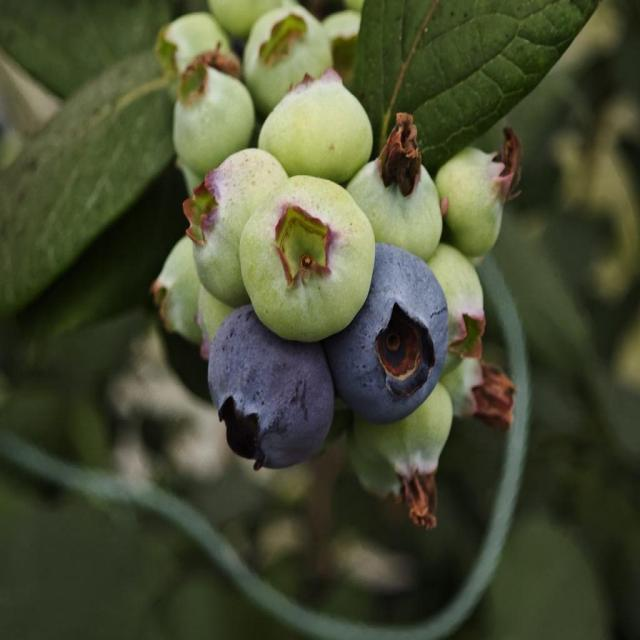RipeBlueBerry: (205, 308, 338, 473), (336, 242, 452, 428)
UnripeBlueBerry: (238, 171, 378, 345), (190, 146, 286, 306), (256, 76, 376, 184), (350, 152, 448, 259), (439, 140, 511, 258), (173, 64, 254, 168)
